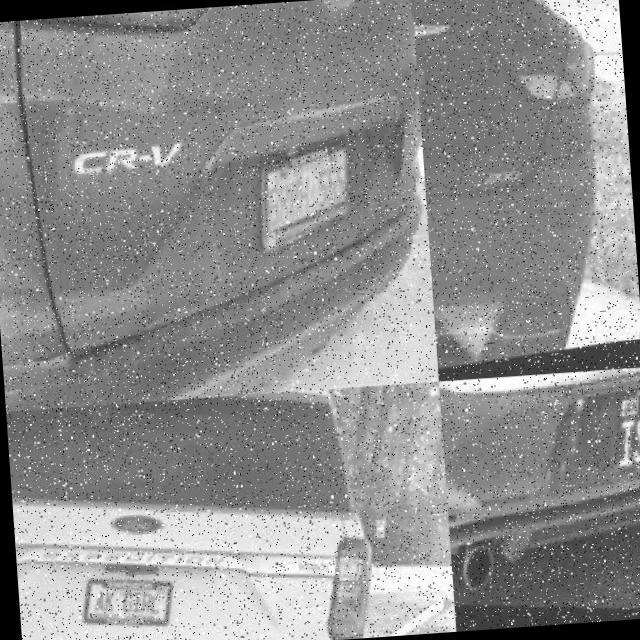LicensePlate: (260, 144, 349, 258), (80, 581, 173, 631), (604, 367, 640, 494)
